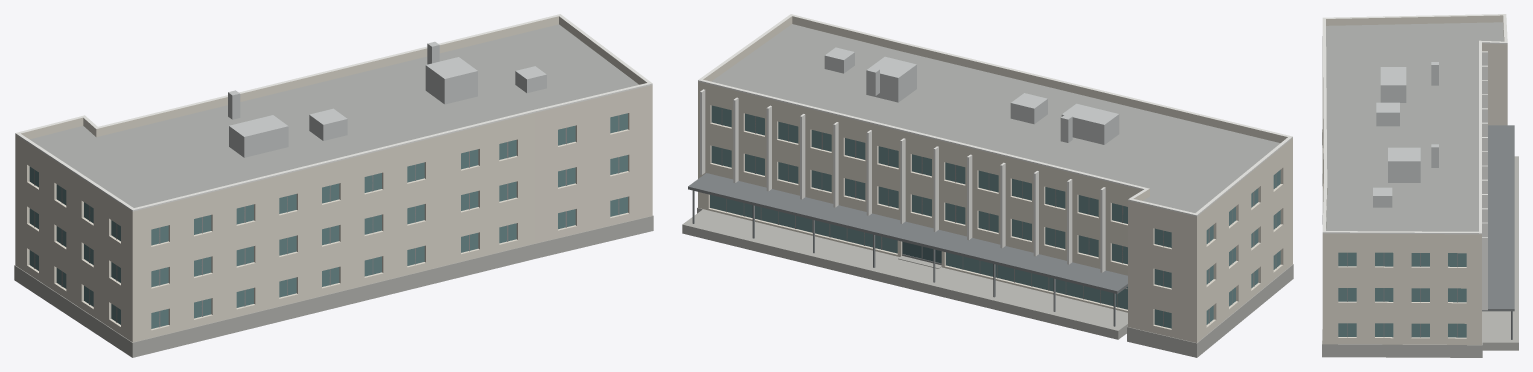
The picture shows the model from 3 angles, left to right: view 1: azimuth 30°, elevation 25°; view 2: azimuth 150°, elevation 25°; view 3: azimuth 270°, elevation 25°; orthographic projection. The views are drawn at different scales.
Parts seen in each view (by area): view 1: C4 warm beige tile walls, C4 grey roof, C4 green grey glass, C4 granite base, C4 galvanised kitchen ducts, C4 white vertical fins, C4 dark grey frames; view 2: C4 warm beige tile walls, C4 grey roof, C4 green grey glass, C4 granite base, C4 white vertical fins, C4 dark steel canopy, C4 galvanised kitchen ducts, C4 dark grey frames, C4 slim canopy column pole, C4 dark glass doors; view 3: C4 grey roof, C4 warm beige tile walls, C4 dark steel canopy, C4 granite base, C4 white vertical fins, C4 galvanised kitchen ducts, C4 green grey glass, C4 dark grey frames.
Boxes of the visible parts, bbox=[...] form: C4 warm beige tile walls: bbox=[15, 16, 652, 342]; C4 grey roof: bbox=[30, 24, 638, 207]; C4 green grey glass: bbox=[29, 113, 627, 328]; C4 granite base: bbox=[14, 215, 653, 357]; C4 galvanised kitchen ducts: bbox=[228, 41, 546, 157]; C4 white vertical fins: bbox=[15, 14, 652, 211]; C4 dark grey frames: bbox=[34, 115, 619, 327]; C4 warm beige tile walls: bbox=[698, 16, 1292, 342]; C4 grey roof: bbox=[711, 24, 1280, 212]; C4 green grey glass: bbox=[710, 105, 1280, 328]; C4 granite base: bbox=[682, 207, 1293, 357]; C4 white vertical fins: bbox=[698, 14, 1292, 272]; C4 dark steel canopy: bbox=[688, 173, 1127, 293]; C4 galvanised kitchen ducts: bbox=[824, 47, 1119, 144]; C4 dark grey frames: bbox=[721, 108, 1276, 326]; C4 slim canopy column pole: bbox=[692, 190, 1115, 326]; C4 dark glass doors: bbox=[902, 241, 941, 263]; C4 grey roof: bbox=[1326, 22, 1503, 231]; C4 warm beige tile walls: bbox=[1322, 15, 1507, 344]; C4 dark steel canopy: bbox=[1482, 125, 1514, 311]; C4 granite base: bbox=[1322, 129, 1518, 357]; C4 white vertical fins: bbox=[1322, 14, 1507, 310]; C4 galvanised kitchen ducts: bbox=[1373, 62, 1438, 207]; C4 green grey glass: bbox=[1338, 252, 1466, 337]; C4 dark grey frames: bbox=[1347, 252, 1457, 337].
Size of the model in its own units: 48.02 by 15.1 by 18.19.
